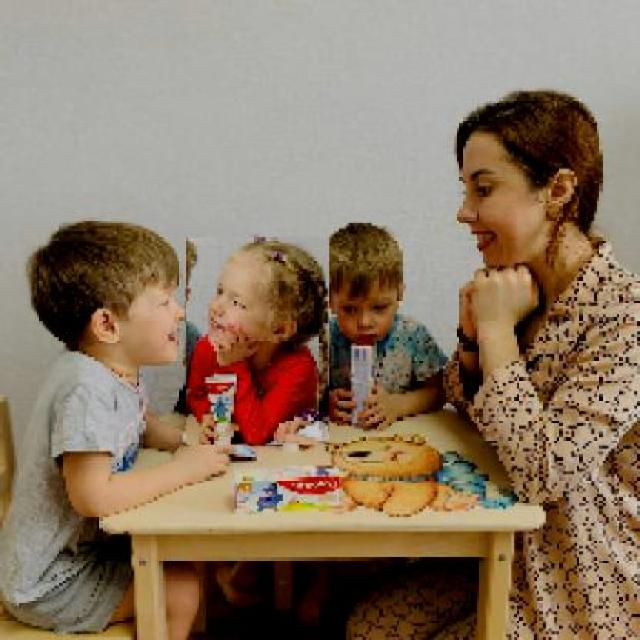child: (3, 217, 243, 637), (185, 237, 329, 446), (312, 219, 448, 432)
